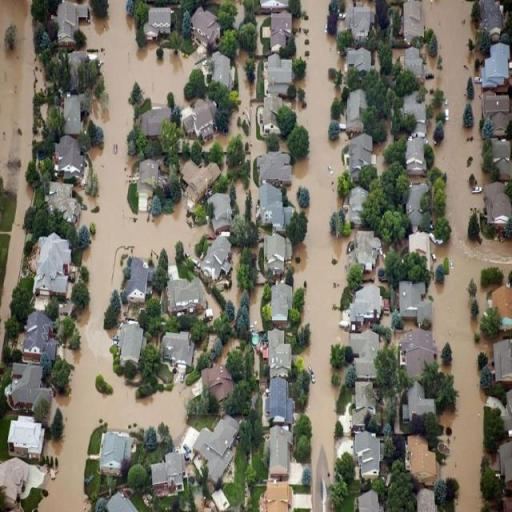flood: (40, 0, 212, 512), (425, 0, 512, 512), (288, 0, 354, 492), (0, 0, 43, 348), (230, 54, 267, 163), (230, 55, 265, 160), (236, 170, 258, 213), (223, 270, 243, 310), (250, 285, 264, 330), (233, 253, 239, 264)
house: (194, 420, 239, 478), (7, 362, 53, 416), (33, 234, 71, 296), (404, 435, 442, 482), (7, 415, 47, 459), (182, 159, 220, 204), (1, 457, 32, 512), (402, 328, 437, 374), (167, 277, 209, 315), (162, 330, 194, 376), (56, 2, 90, 44), (101, 432, 132, 478), (265, 375, 293, 424), (260, 182, 289, 229), (55, 136, 84, 183), (268, 425, 294, 477), (200, 238, 234, 277), (151, 452, 184, 492), (354, 428, 380, 478), (267, 329, 294, 377), (400, 281, 430, 324), (352, 331, 378, 380), (24, 310, 51, 356), (350, 285, 384, 321), (118, 321, 144, 367), (183, 104, 216, 140), (192, 8, 221, 48), (264, 234, 290, 277), (264, 55, 291, 96), (484, 44, 510, 86), (258, 152, 292, 184), (353, 229, 378, 272), (486, 182, 511, 224), (408, 383, 438, 416), (269, 282, 292, 324), (203, 366, 231, 400), (264, 12, 290, 48), (403, 0, 425, 38), (127, 263, 147, 304), (212, 192, 233, 231), (493, 337, 512, 380), (266, 481, 292, 512), (64, 94, 83, 136), (138, 158, 158, 197), (148, 7, 173, 38), (346, 90, 364, 133), (492, 286, 512, 324), (350, 4, 372, 38), (350, 135, 374, 166), (347, 186, 366, 224), (411, 183, 426, 230), (497, 442, 512, 488), (262, 96, 280, 134), (109, 490, 140, 512), (143, 109, 166, 138), (213, 52, 232, 87), (482, 93, 512, 114), (408, 140, 426, 174), (410, 232, 432, 258), (356, 381, 374, 412), (358, 489, 381, 512), (487, 5, 503, 38), (493, 140, 512, 166), (417, 488, 437, 512), (407, 46, 423, 75), (494, 116, 508, 136), (414, 122, 428, 138)
